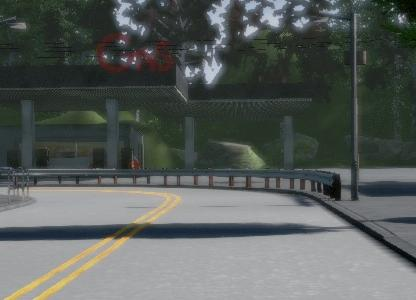Speed_60: (368, 65, 416, 127)
